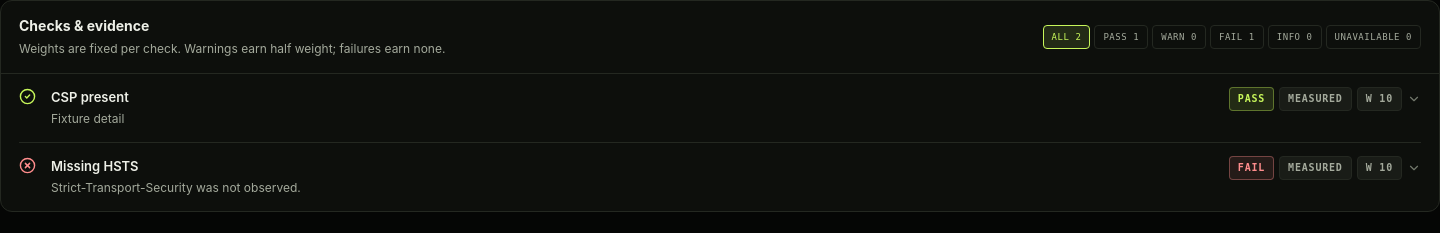
Test: CheckList › filters checks without fabricating results
The image size is (1440, 233).
Click the button "Fail 1".
click(1237, 37)  # box [1210,25,1264,49]
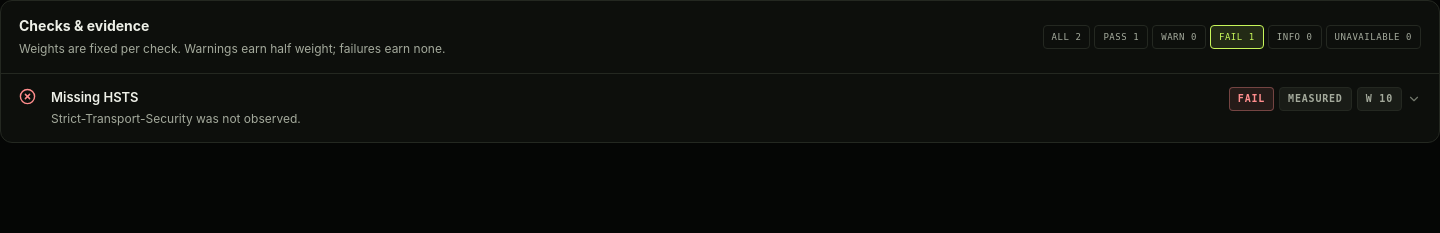
Expected: the text "Missing HSTS" is shown, [51,89,138,105]
Result: the heading "CSP present" is gone
Click the button "Unavailable 0".
click(1373, 37)  # box [1326,25,1421,49]
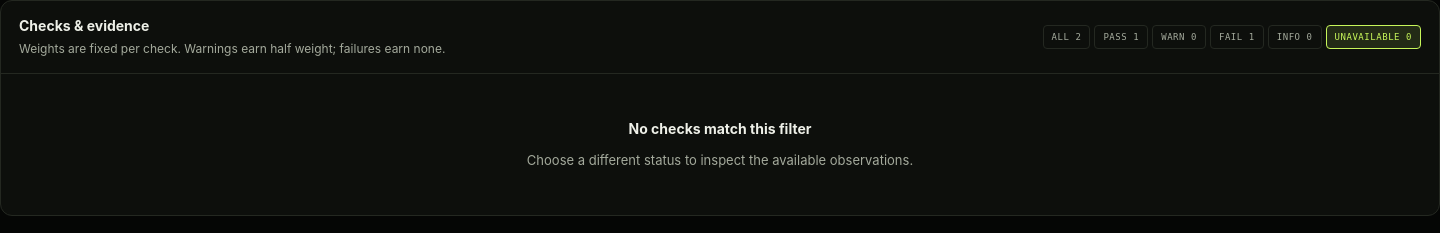
Result: the text "No checks match this filter" is shown at [628,118,811,140]
